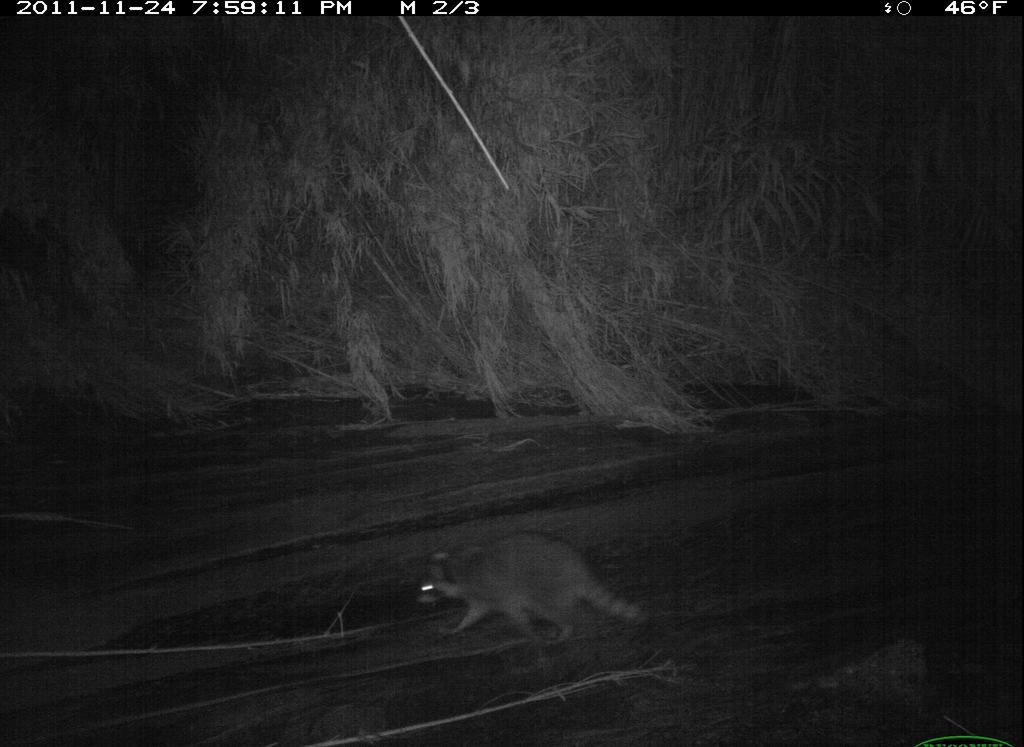raccoon: (413, 519, 671, 653)
